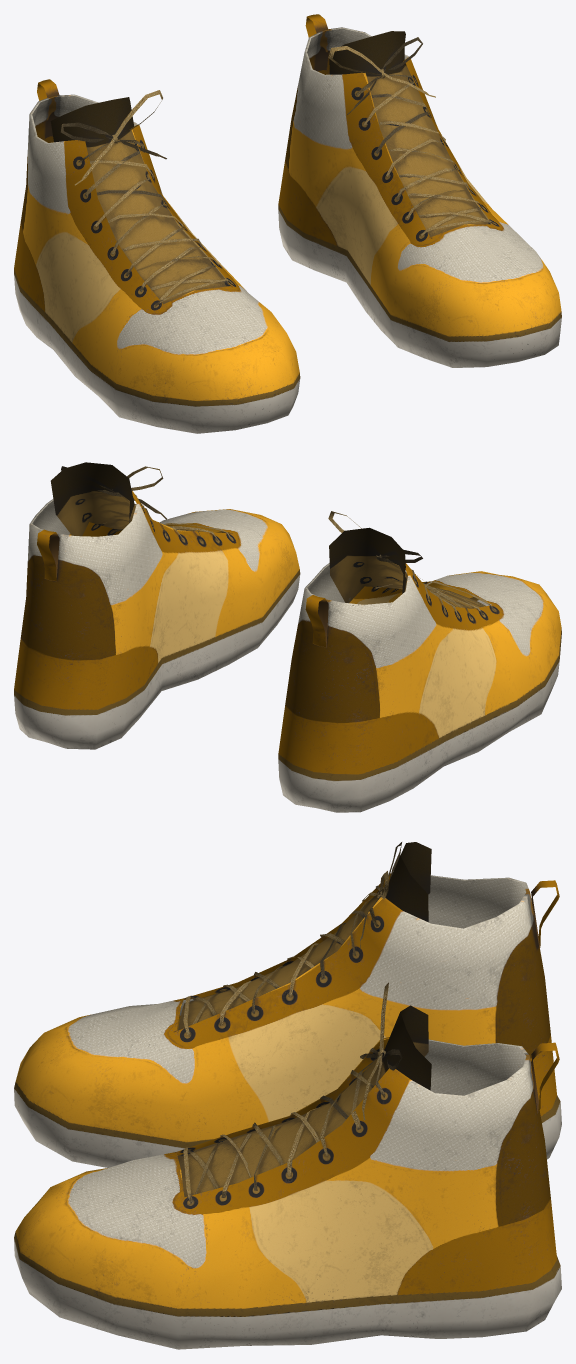
File: shoes.glb
3 views of the same model, one above another, from view 1: azimuth 30°, elevation 25°; view 2: azimuth 150°, elevation 25°; view 3: azimuth 270°, elevation 25° (orthographic). The views are drawn at different scales.
Parts seen in each view (by area): view 1: sneakers; view 2: sneakers; view 3: sneakers.
Part boxes in pixels (<box>): sneakers: <box>14,14,561,433</box>; sneakers: <box>14,462,561,812</box>; sneakers: <box>14,842,561,1349</box>.
Bounding box in the file's own units: 0.6103 × 0.3284 × 0.5439.
Materials: 1 (1 with a texture image).
